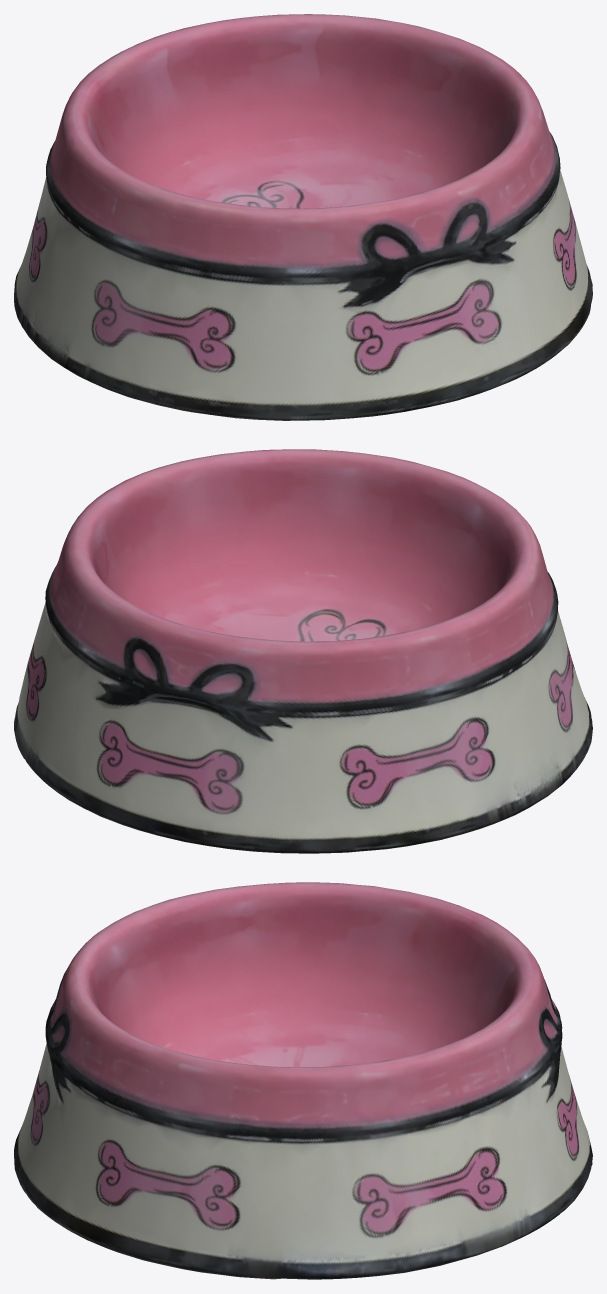
The model's file is Top_Paw_Dog_Bow_Bone_Ceramic_13_fl_oz_total.glb.
3 renders of one model, top to bottom at view 1: azimuth 30°, elevation 25°; view 2: azimuth 150°, elevation 25°; view 3: azimuth 270°, elevation 25°, orthographic.
Visible parts, largest first — view 1: Top_Paw_Dog_Bow_Bone_Ceramic_13_fl_oz_total; view 2: Top_Paw_Dog_Bow_Bone_Ceramic_13_fl_oz_total; view 3: Top_Paw_Dog_Bow_Bone_Ceramic_13_fl_oz_total.
Part boxes in pixels (box(x1,y1,x2,y2)): Top_Paw_Dog_Bow_Bone_Ceramic_13_fl_oz_total: box(14, 14, 592, 420); Top_Paw_Dog_Bow_Bone_Ceramic_13_fl_oz_total: box(14, 449, 592, 853); Top_Paw_Dog_Bow_Bone_Ceramic_13_fl_oz_total: box(14, 882, 592, 1279).
Size of the model in its own units: 0.1843 by 0.0685 by 0.1856.
Materials: 1 (1 with a texture image).
